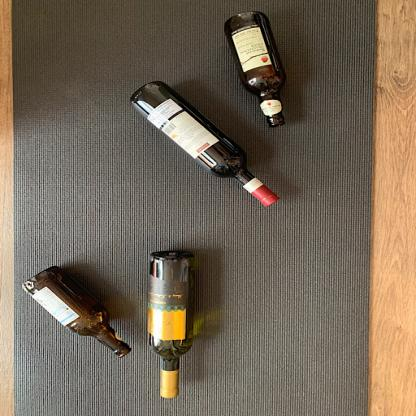trash: (128, 80, 281, 209), (21, 263, 137, 364), (222, 12, 289, 131), (144, 250, 196, 399)
